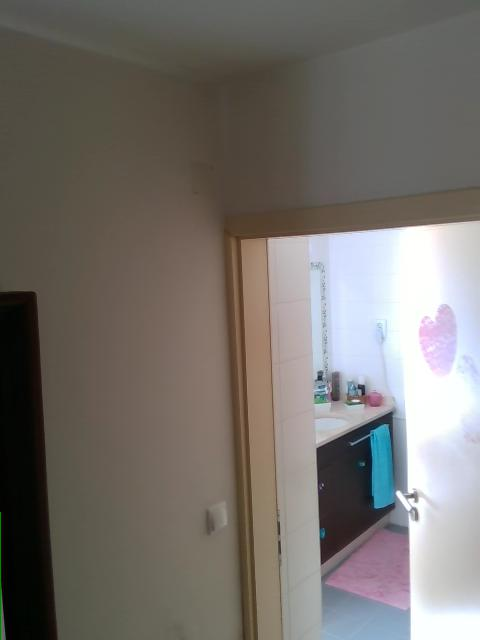semi_door: (220, 185, 479, 639)
